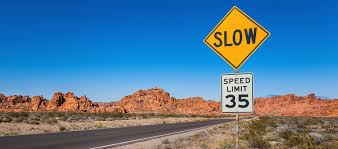slow: (203, 5, 272, 71)
speedLimit35: (220, 72, 253, 115)
